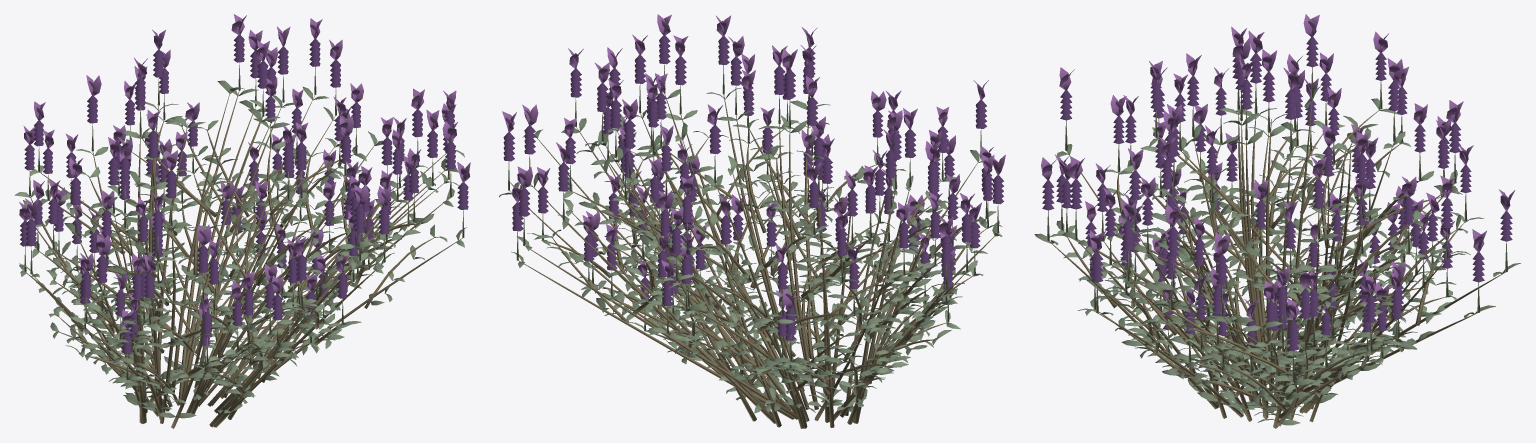
Rendered from Lavande_Incline_LOD0.fbx.
3 renders of one model, left to right at view 1: azimuth 30°, elevation 25°; view 2: azimuth 150°, elevation 25°; view 3: azimuth 270°, elevation 25°, orthographic. The views are drawn at different scales.
Visible parts, largest first — view 1: Lavande_Incline; view 2: Lavande_Incline; view 3: Lavande_Incline.
Part boxes in pixels (bbox=[...]): Lavande_Incline: bbox=[14, 14, 470, 428]; Lavande_Incline: bbox=[499, 14, 1005, 428]; Lavande_Incline: bbox=[1034, 14, 1520, 428].
Bounding box in the file's own units: 80.74 × 60.26 × 70.66.
